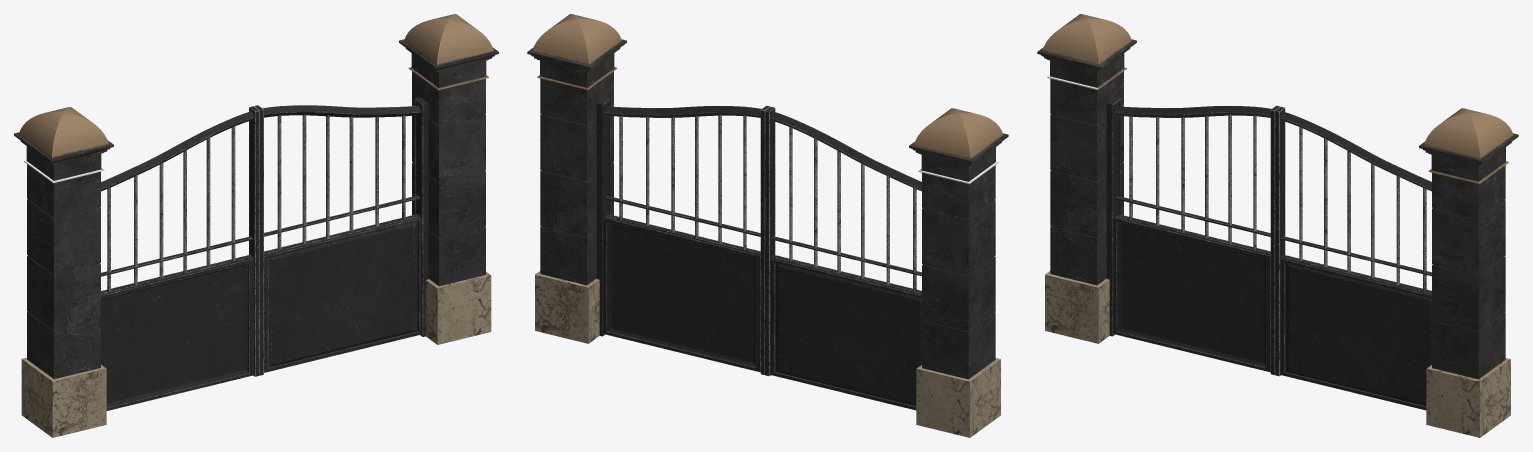
The picture shows the model from 3 angles, left to right: view 1: azimuth 30°, elevation 25°; view 2: azimuth 150°, elevation 25°; view 3: azimuth 330°, elevation 25°; orthographic projection.
Visible parts, largest first — view 1: RightPart, LeftPillar, LeftPart, RightPillar, Pivot (×2); view 2: LeftPillar, RightPart, LeftPart, RightPillar, Pivot (×2); view 3: RightPillar, LeftPart, RightPart, LeftPillar, Pivot (×2).
Part boxes in pixels (x1,y1,x2,y2): RightPart: (263, 105, 421, 372); LeftPillar: (14, 107, 113, 437); LeftPart: (100, 111, 254, 410); RightPillar: (399, 14, 498, 344); Pivot (×2): (249, 97, 428, 376); LeftPillar: (909, 108, 1008, 437); RightPart: (603, 105, 761, 372); LeftPart: (770, 111, 922, 410); RightPillar: (527, 14, 626, 343); Pivot (×2): (596, 97, 775, 376); RightPillar: (1419, 108, 1518, 437); LeftPart: (1113, 105, 1271, 372); RightPart: (1280, 111, 1432, 410); LeftPillar: (1037, 14, 1136, 343); Pivot (×2): (1106, 97, 1285, 376).
Size of the model in its own units: 2 by 1.32 by 0.2913.
Materials: 5 (5 with a texture image).
